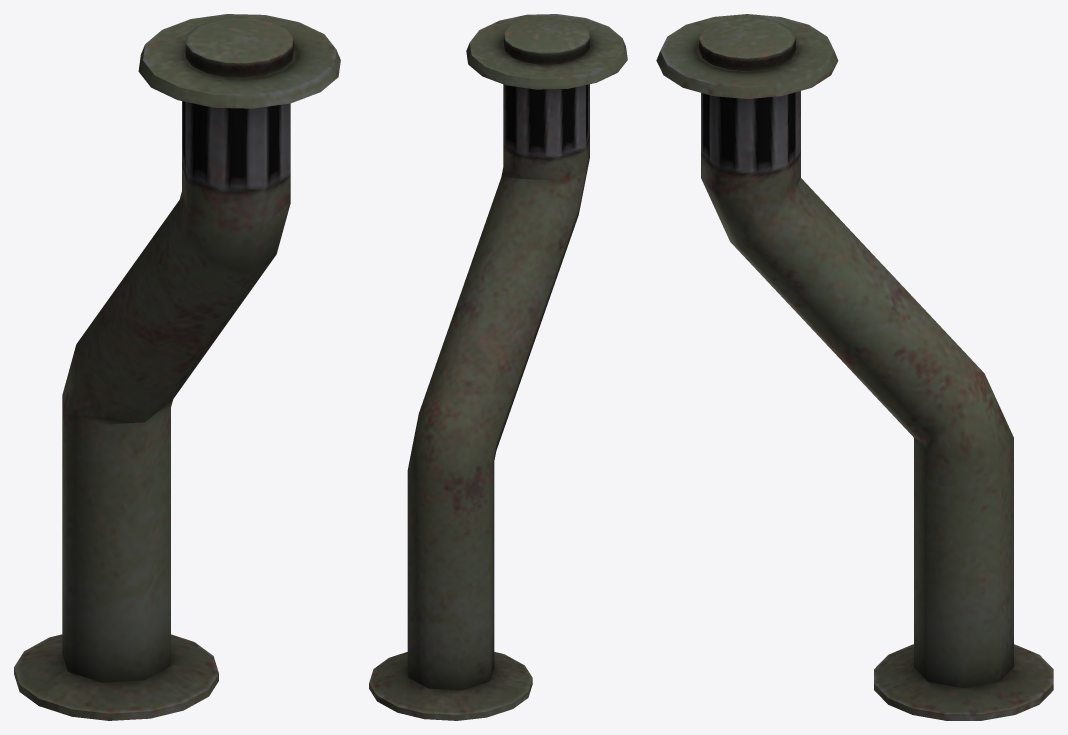
Rendered from Vent_13.fbx.
The picture shows the model from 3 angles, left to right: view 1: azimuth 30°, elevation 25°; view 2: azimuth 150°, elevation 25°; view 3: azimuth 270°, elevation 25°; orthographic projection. The views are drawn at different scales.
Visible parts, largest first — view 1: Vent_2; view 2: Vent_2; view 3: Vent_2.
Part boxes in pixels (box(x1,y1,x2,y2)): Vent_2: box(14, 14, 340, 720); Vent_2: box(369, 14, 627, 720); Vent_2: box(656, 14, 1053, 720).
Bounding box in the file's own units: 32.48 × 128 × 70.81.
